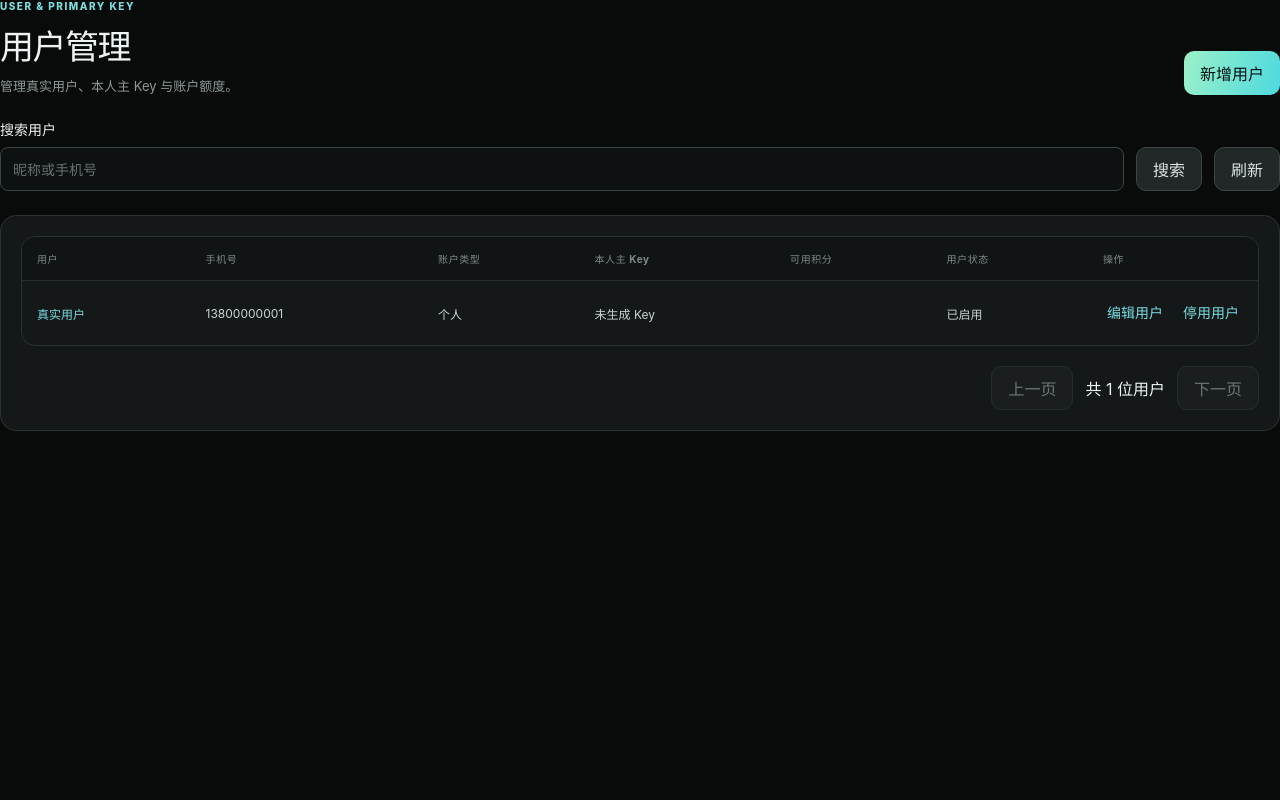
Scenario: shows a true no-Key state and disables all amount actions before saving
Click the button "新增用户". click: (1232,73)
box: [1184,51,1279,95]
(page scrolled)
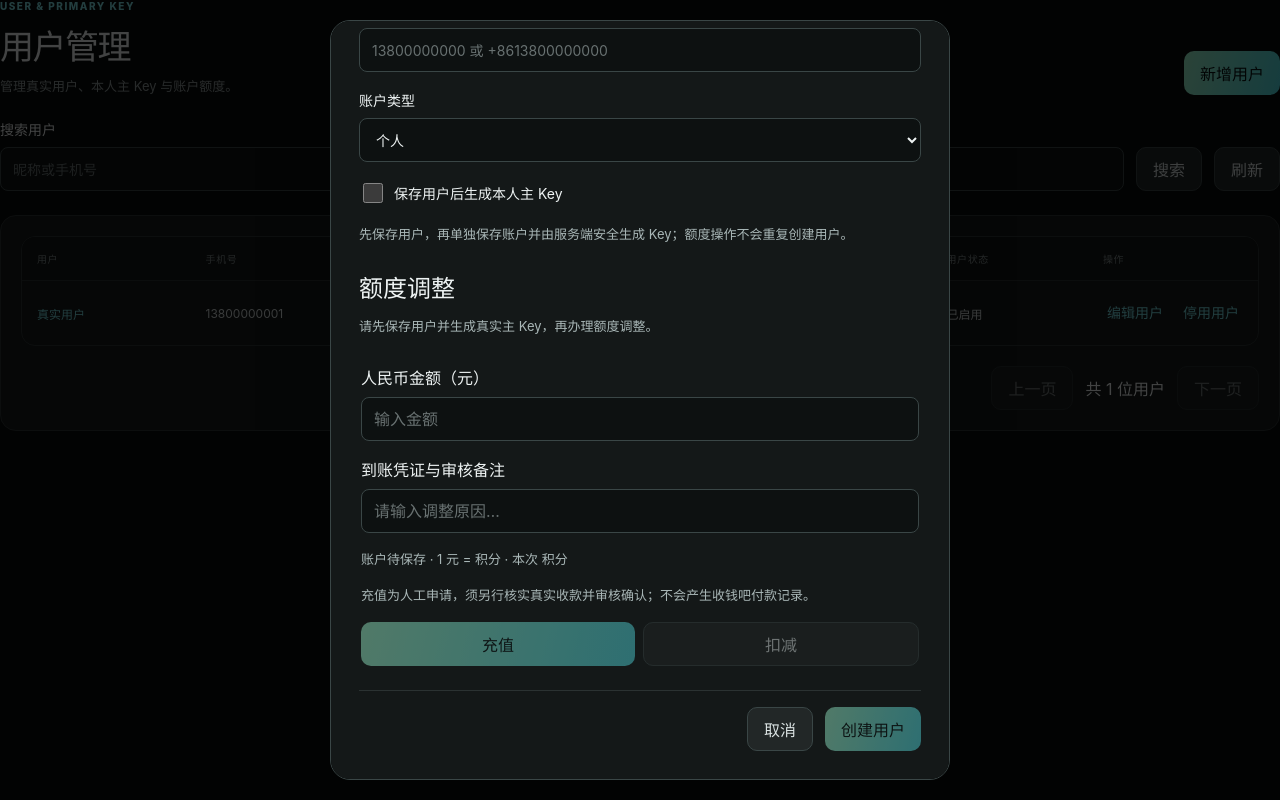
Now the element that starts with "人民币金额（元）" is disabled, box [361,349,919,666]
